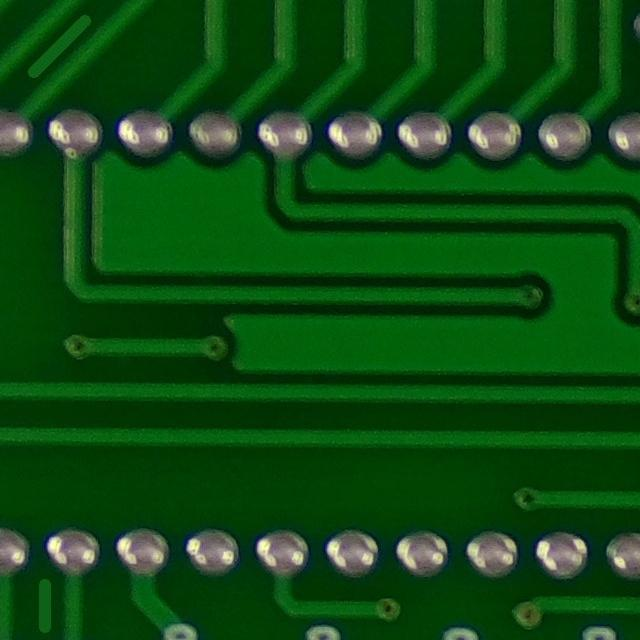spurious_copper: (0, 0, 109, 85), (20, 570, 66, 640)
